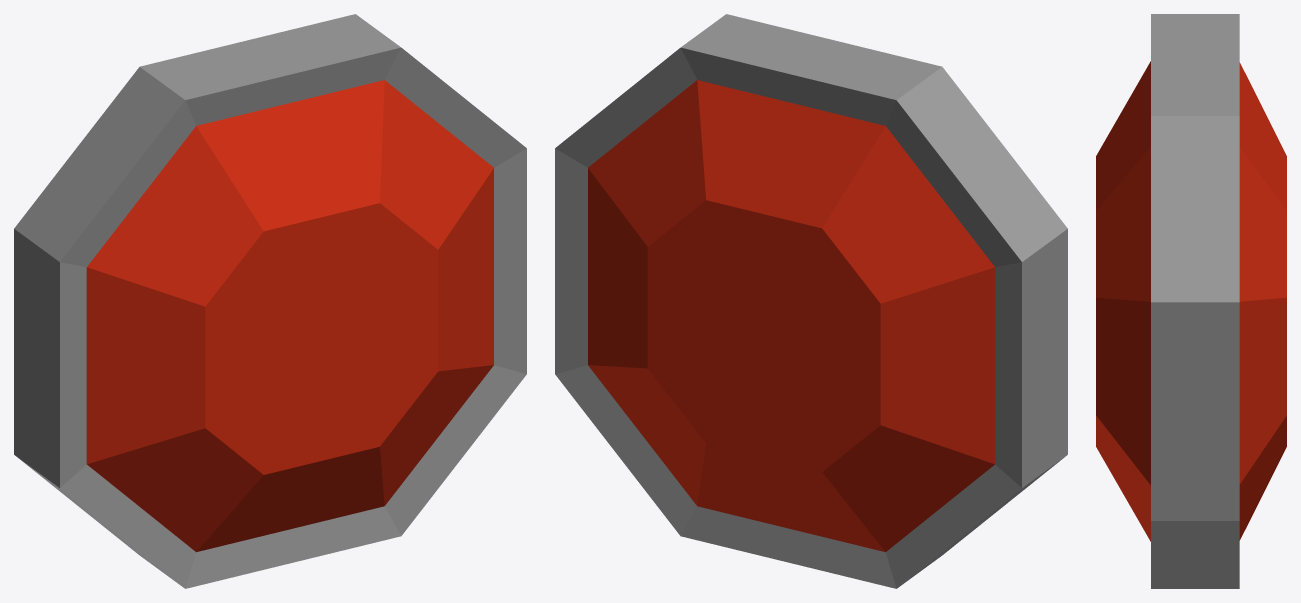
3 views of the same model, side by side, from view 1: azimuth 30°, elevation 25°; view 2: azimuth 150°, elevation 25°; view 3: azimuth 270°, elevation 25° (orthographic). The views are drawn at different scales.
Visible parts, largest first — view 1: GemaVermelha02; view 2: GemaVermelha02; view 3: GemaVermelha02.
Boxes of the visible parts, bbox=[...] form: GemaVermelha02: bbox=[14, 14, 526, 588]; GemaVermelha02: bbox=[555, 14, 1067, 588]; GemaVermelha02: bbox=[1096, 14, 1286, 588].
Size of the model in its own units: 63.02 by 63.02 by 23.05.
